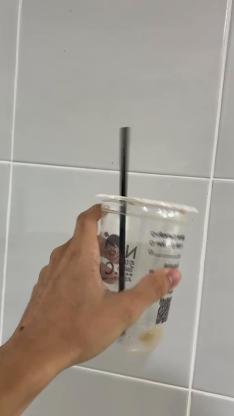Plastic Cup: (96, 193, 202, 357)
